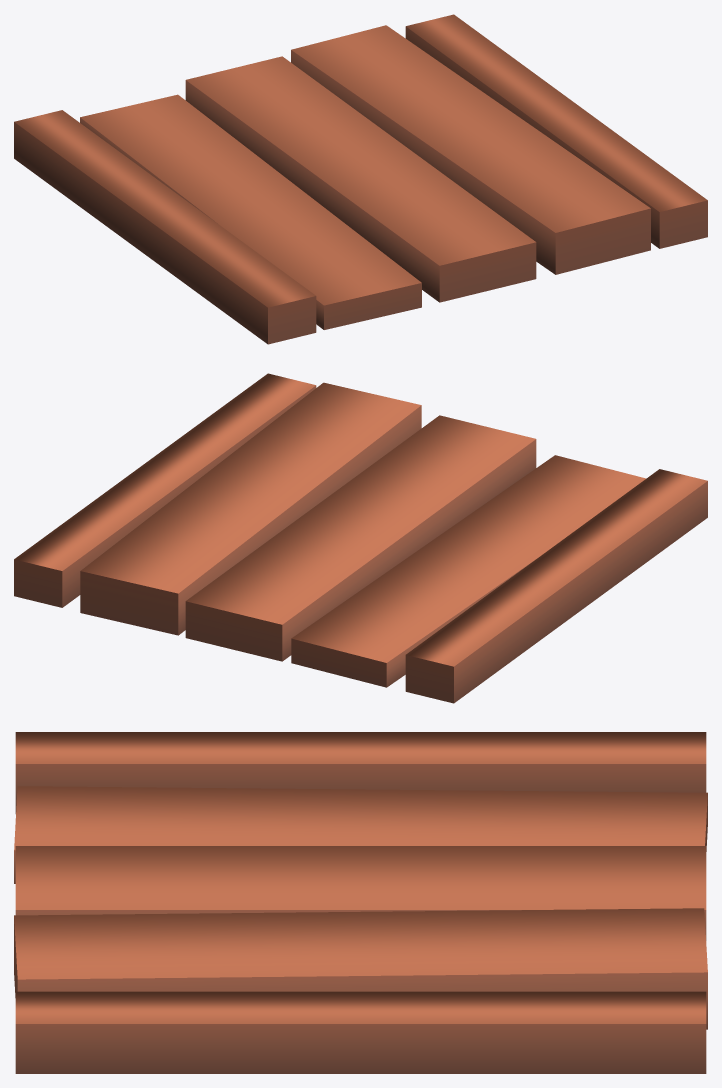
Rendered from platform.glb.
The picture shows the model from 3 angles, top to bottom: view 1: azimuth 30°, elevation 25°; view 2: azimuth 150°, elevation 25°; view 3: azimuth 270°, elevation 25°; orthographic projection. The views are drawn at different scales.
Parts seen in each view (by area): view 1: platform; view 2: platform; view 3: platform.
Boxes of the visible parts, box(x1,y1,x2,y2) form: platform: box(14, 14, 707, 344); platform: box(14, 373, 707, 703); platform: box(14, 732, 707, 1073).
Size of the model in its own units: 2.5 by 0.2279 by 2.51.
1 material, 1 textured.
